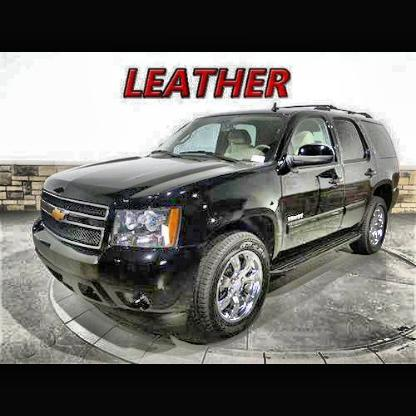Chevrolet Tahoe Hybrid SUV 2012: (31, 104, 405, 337)
